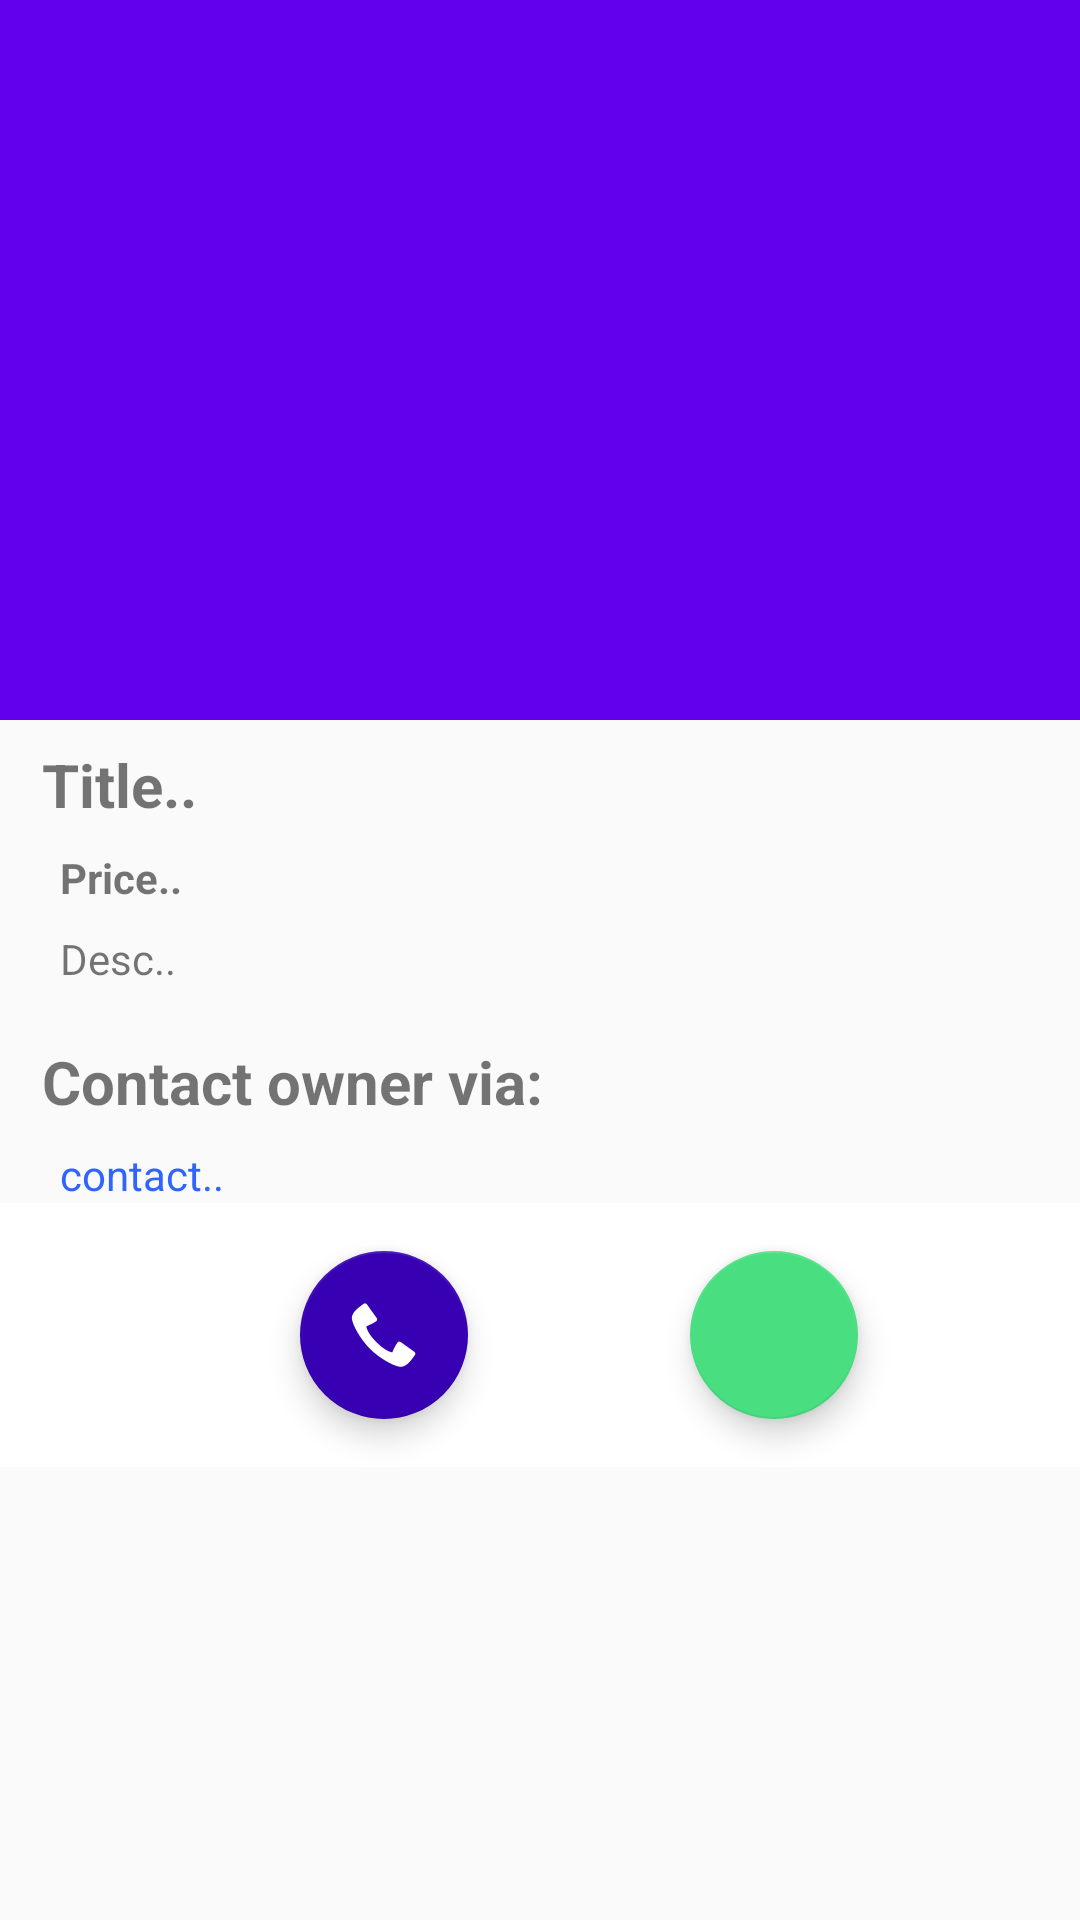

Icons on this 1080 × 1920 Android screen, each with the point to tap as (x=x, y=y):
phone call: (x=384, y=1335)
